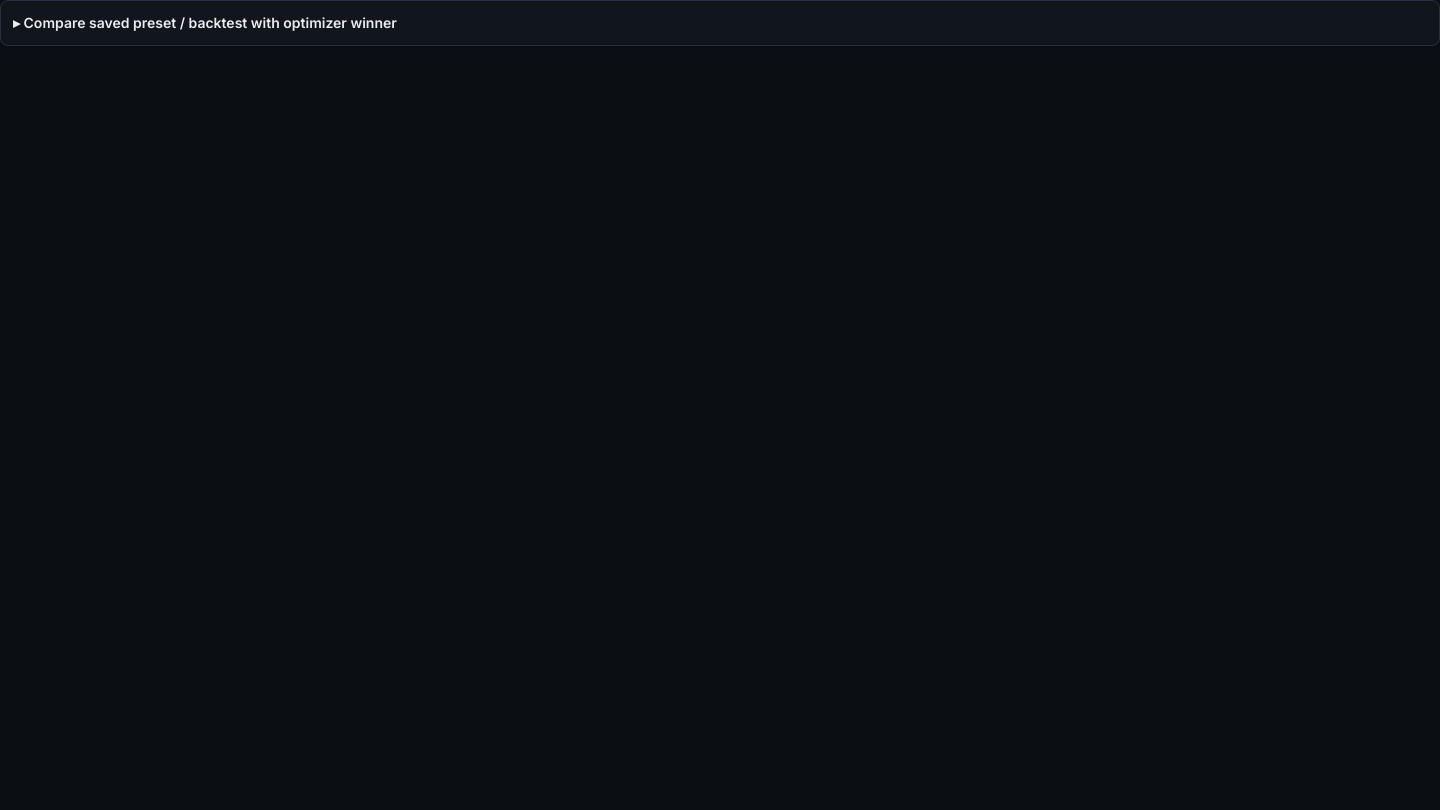
missing linked saved run remains unknown rather than using job request settings
This screenshot has width=1440, height=810.
Click the button "▸ Compare saved preset / backtest with optimizer winner" at (208, 22), box [1,1,1439,45]
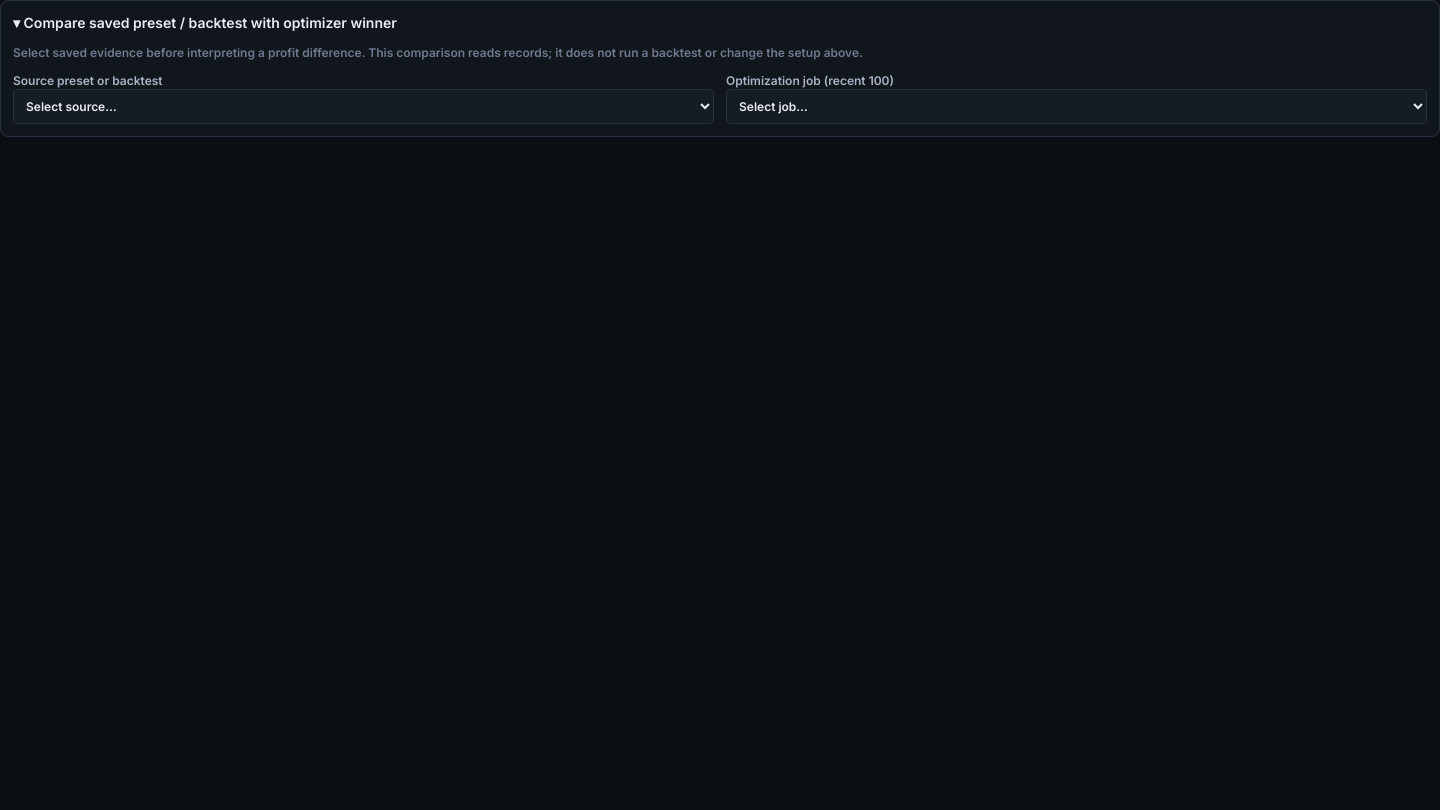
Select "first · first" in the dropdown labelled "Source preset or backtest" at (364, 106), box [13,89,714,124]
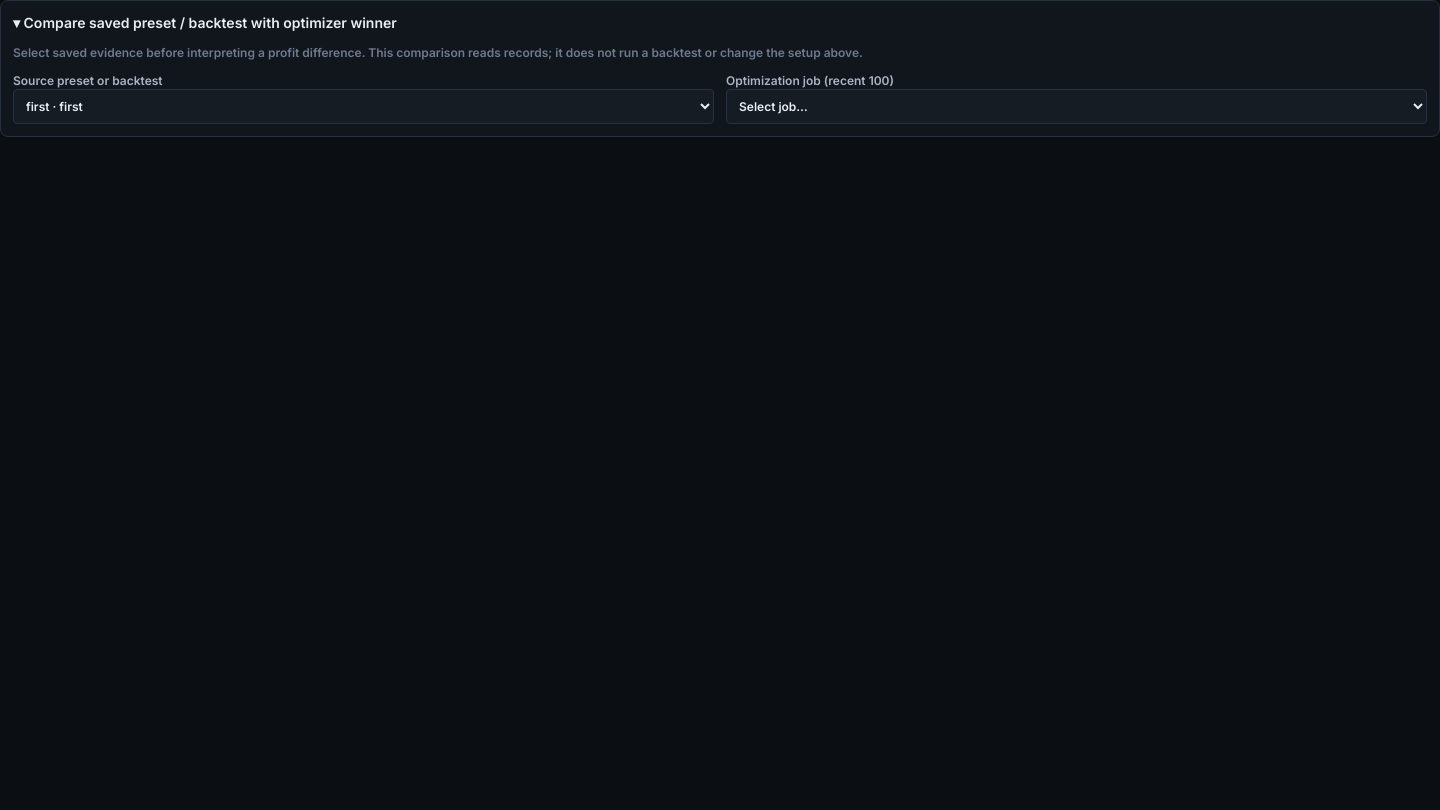
Select "Saved job · done · job" in the dropdown labelled "Optimization job (recent 100)" at (1076, 106), box [726,89,1427,124]
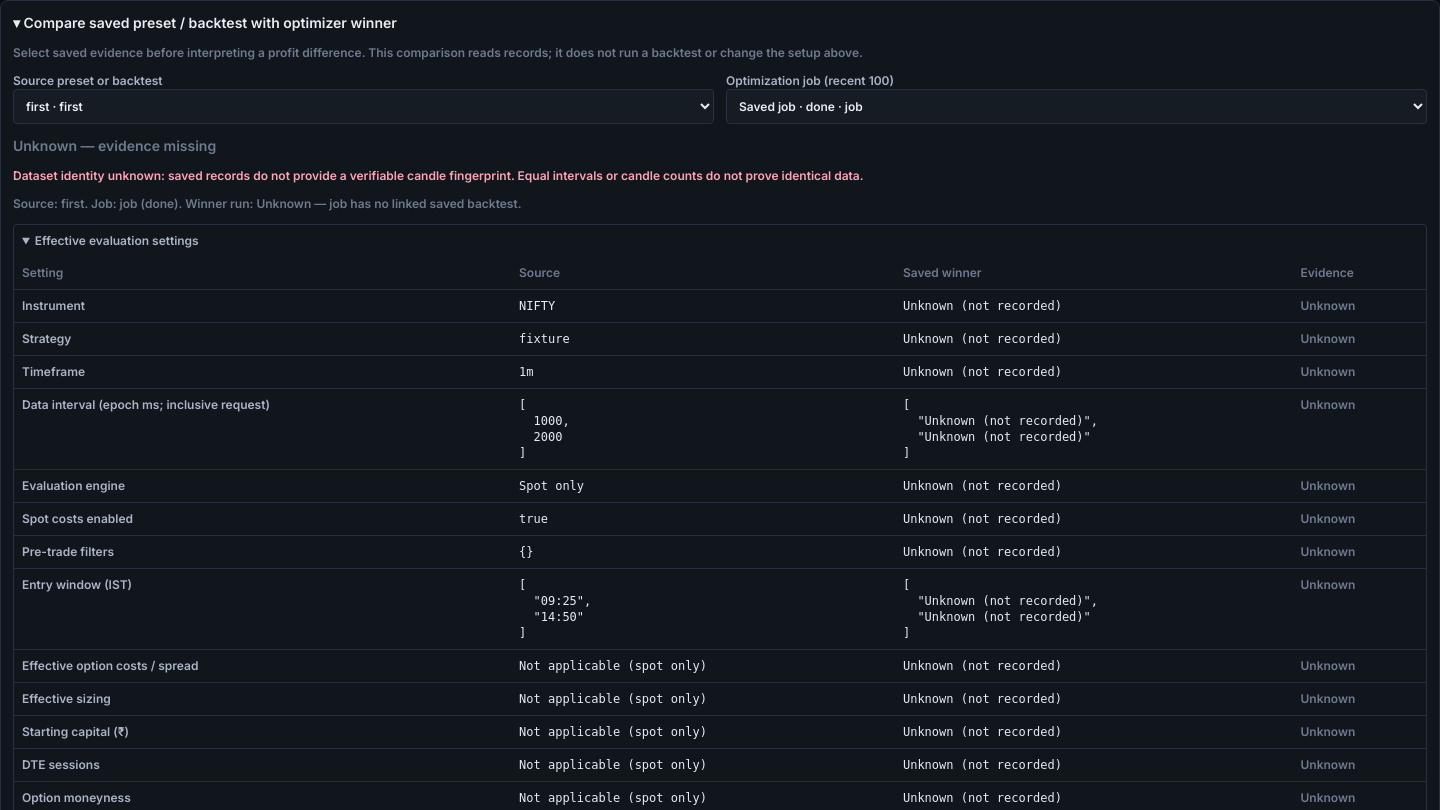
expect the text "job has no linked saved backtest" is shown: met, box [256,196,518,211]
expect the text with test id "research-comparison-status" shows "Unknown": met, box [13,137,216,154]
